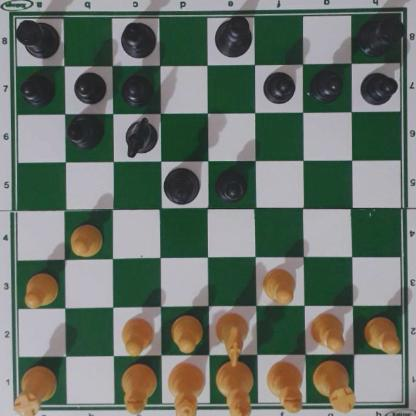black-bishop: (119, 19, 157, 57), (65, 114, 105, 149)
black-king: (216, 15, 252, 58)
black-knight: (124, 115, 156, 154)
black-pawn: (360, 69, 396, 105), (213, 167, 248, 202), (262, 68, 295, 103), (309, 68, 343, 101), (73, 69, 105, 104), (20, 72, 54, 104), (121, 71, 152, 105)
black-queen: (163, 166, 199, 204)
black-rook: (12, 15, 60, 58), (358, 10, 402, 55)
white-bishop: (265, 360, 302, 411), (121, 360, 154, 413)
white-king: (215, 359, 253, 415)
white-knight: (214, 310, 251, 365)
white-pawn: (309, 311, 347, 351), (363, 314, 400, 351), (120, 315, 154, 355), (67, 221, 104, 257), (260, 266, 295, 304), (22, 272, 58, 308), (169, 313, 202, 351)
white-queen: (166, 361, 205, 416)
white-rook: (312, 363, 357, 413), (15, 361, 55, 416)
